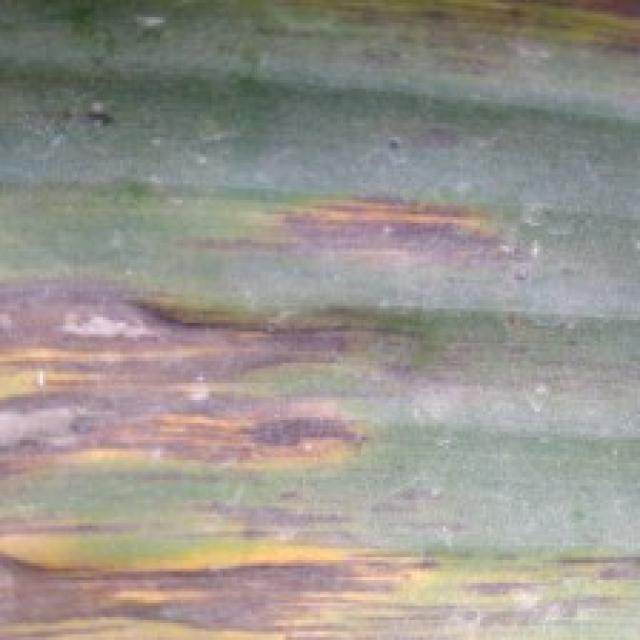Early_leaf_spot: (0, 465, 625, 640), (0, 242, 395, 471), (205, 150, 542, 283), (286, 0, 637, 71)
